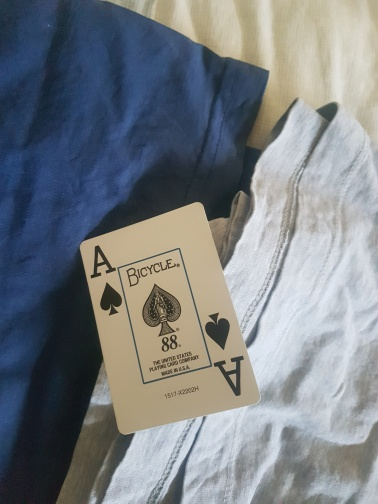ace: (78, 202, 262, 435)
